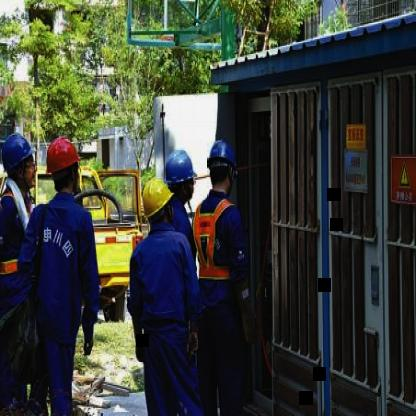helmet: (0, 124, 40, 190), (44, 131, 81, 200), (140, 173, 180, 225), (165, 148, 199, 206), (206, 136, 238, 196)
